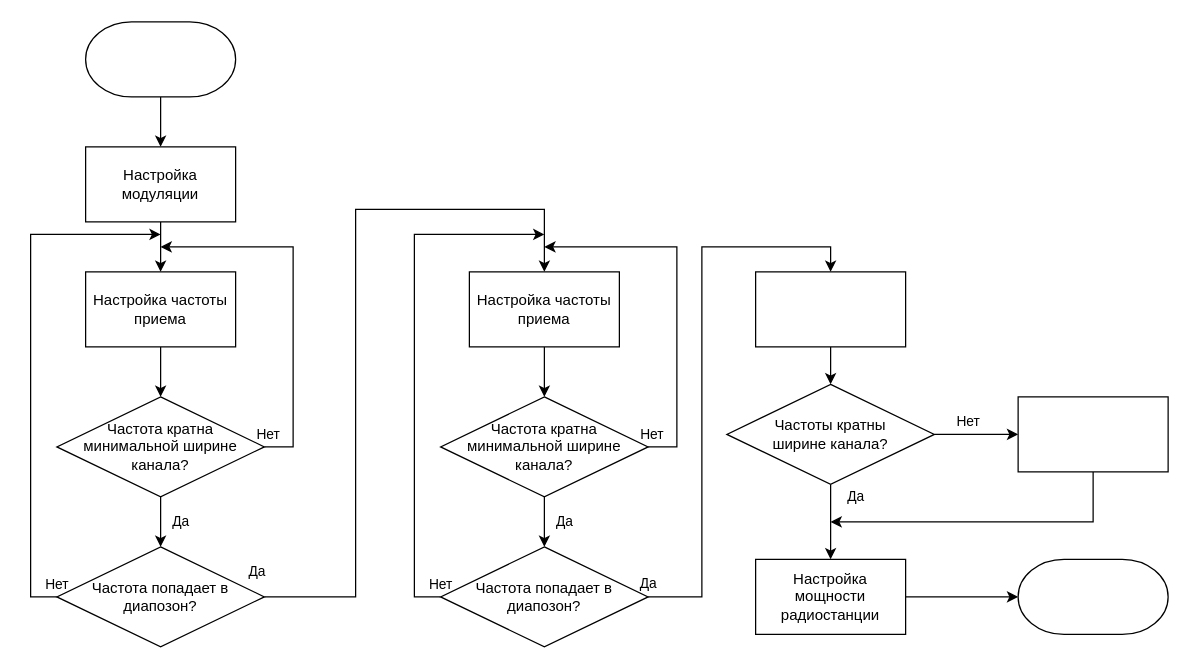
Some shapes in this 1190 by 669 pixel diagram are drawn without their labels. Here are the shapes that lost their labels. From the top down, the box of each, then its label:
(84, 21, 236, 97): Начало
(754, 271, 906, 347): Настройка ширины канала
(1017, 396, 1168, 472): Измененние частот на ближайшие кратные
(1017, 558, 1168, 634): Конец
